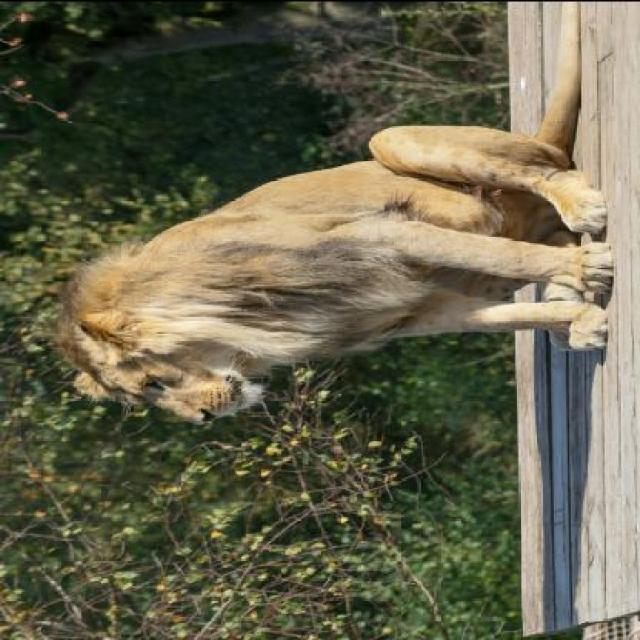Lion: (32, 69, 638, 446)
